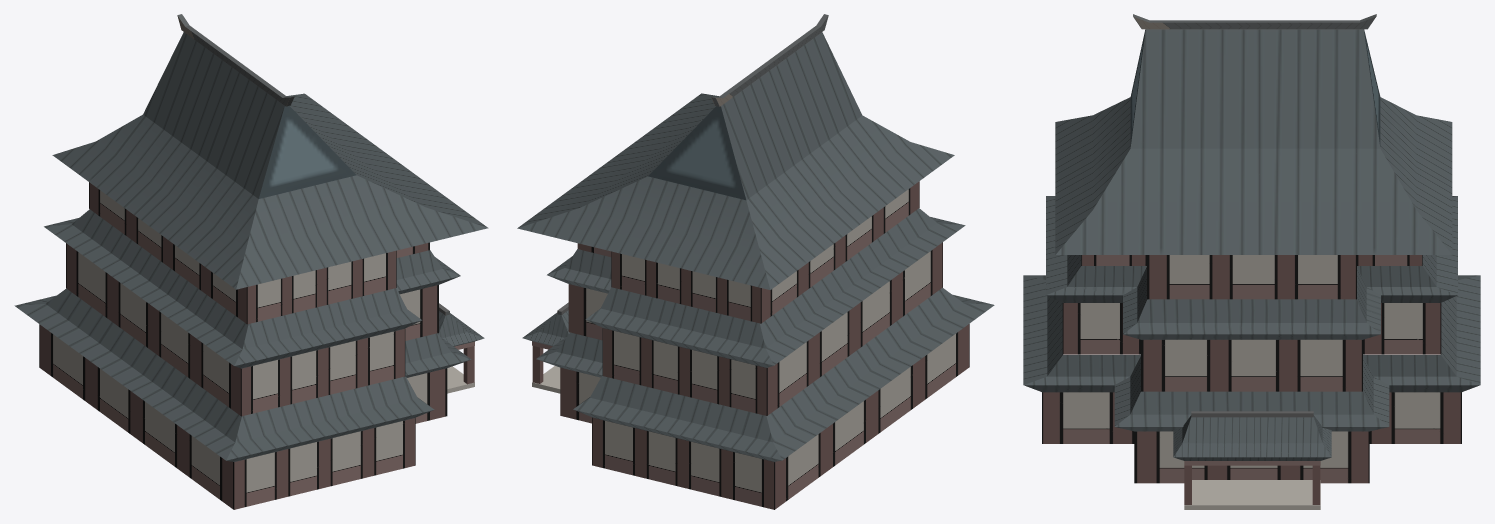
The model's file is TS_Building_01.FBX.
3 renders of one model, left to right at view 1: azimuth 30°, elevation 25°; view 2: azimuth 150°, elevation 25°; view 3: azimuth 270°, elevation 25°, orthographic. The views are drawn at different scales.
Parts seen in each view (by area): view 1: Box001, Box003; view 2: Box001, Box003; view 3: Box001, Box003.
Part boxes in pixels (x1=…): Box001: x1=14, y1=14, x2=488, y2=509; Box003: x1=437, y1=303, x2=484, y2=393; Box001: x1=517, y1=14, x2=994, y2=509; Box003: x1=522, y1=302, x2=569, y2=393; Box001: x1=1023, y1=14, x2=1480, y2=483; Box003: x1=1173, y1=411, x2=1331, y2=509.
Bounding box in the file's own units: 7.35 × 7.65 × 8.21.
